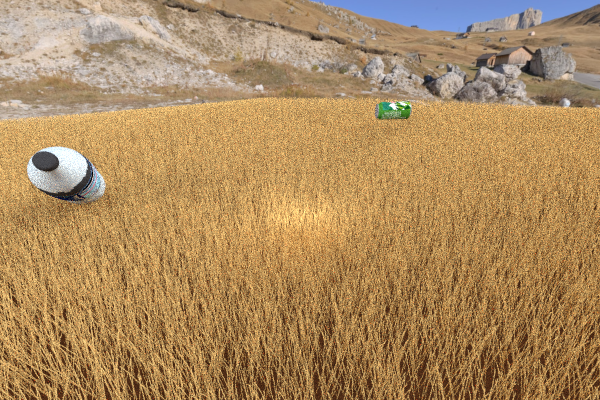Plastic Bottle: (27, 146, 105, 204), (374, 101, 411, 119)
